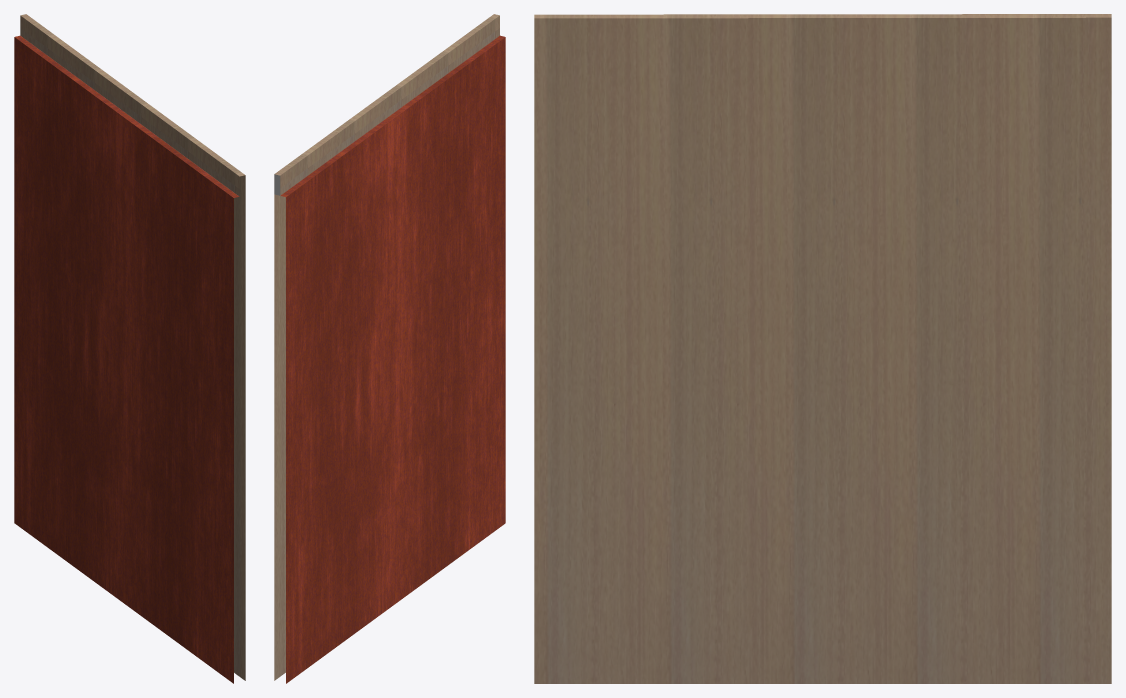
File: SM_Meeting_Kitchen_Wall.fbx
3 views of the same model, side by side, from view 1: azimuth 30°, elevation 25°; view 2: azimuth 150°, elevation 25°; view 3: azimuth 270°, elevation 25° (orthographic). The views are drawn at different scales.
Parts seen in each view (by area): view 1: SM_Meeting_Kitchen_Wall; view 2: SM_Meeting_Kitchen_Wall; view 3: SM_Meeting_Kitchen_Wall.
Boxes of the visible parts, bbox=[...] form: SM_Meeting_Kitchen_Wall: bbox=[14, 14, 245, 683]; SM_Meeting_Kitchen_Wall: bbox=[274, 14, 505, 683]; SM_Meeting_Kitchen_Wall: bbox=[534, 14, 1111, 683].
Bounding box in the file's own units: 7.2 × 232 × 295.
1 material, 1 textured.
